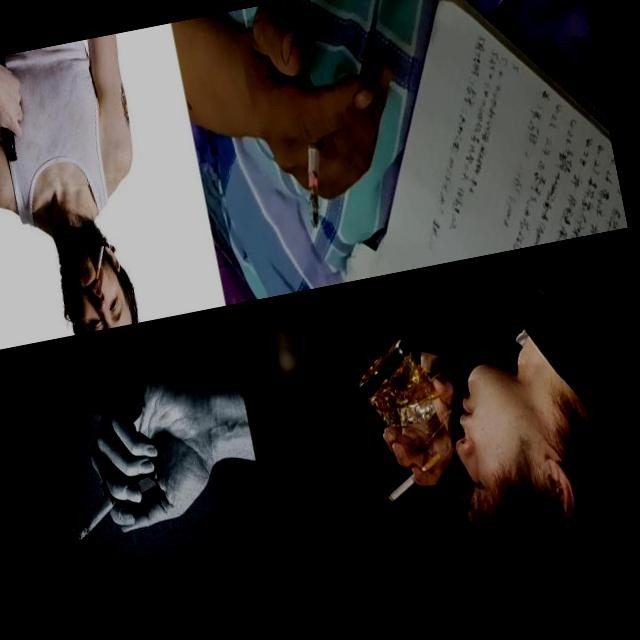smoke: (64, 478, 136, 542), (294, 123, 338, 226), (380, 450, 450, 503), (88, 242, 112, 282)
